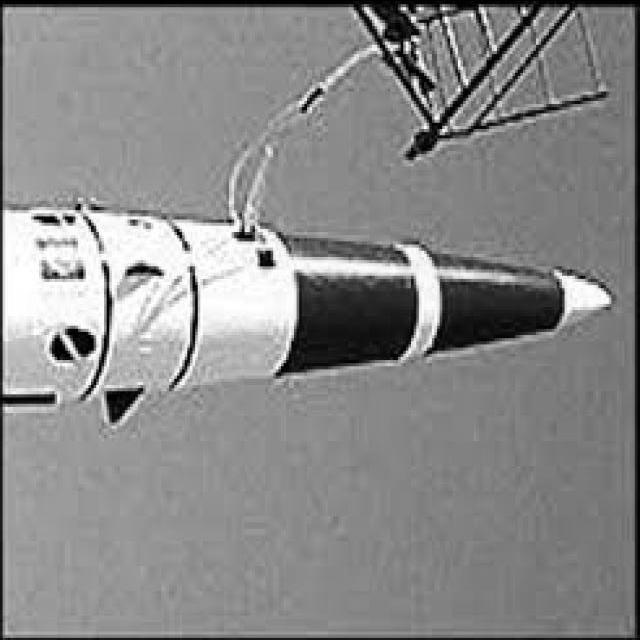Missile: (0, 195, 625, 398)
